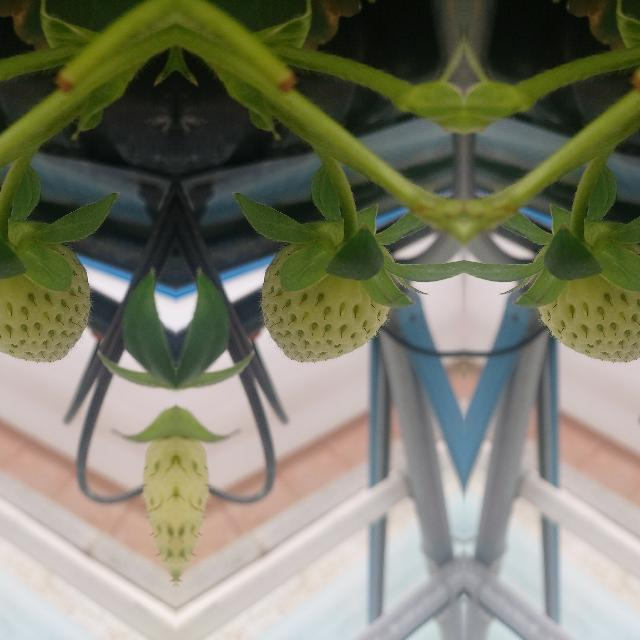Health_25: (260, 242, 388, 362), (538, 242, 640, 361), (0, 242, 90, 361)
